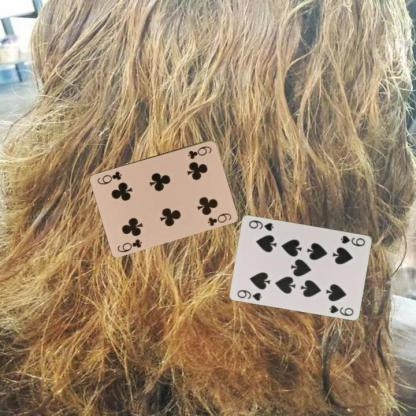6c: (115, 236, 144, 253), (186, 143, 212, 160)
9s: (234, 287, 264, 302), (338, 233, 366, 247)
